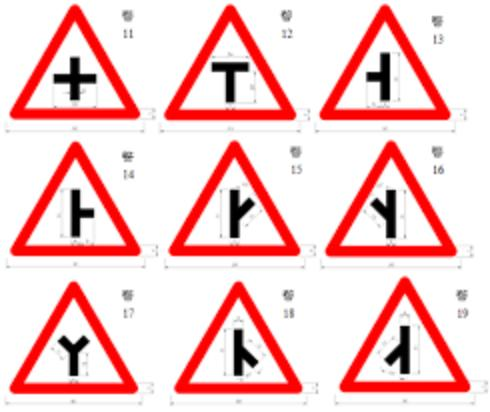fork_road: (326, 270, 478, 394), (156, 1, 305, 127), (161, 133, 308, 258), (320, 135, 465, 260), (313, 0, 454, 121), (7, 137, 145, 257), (6, 2, 143, 120), (167, 281, 307, 396), (6, 280, 144, 394)
